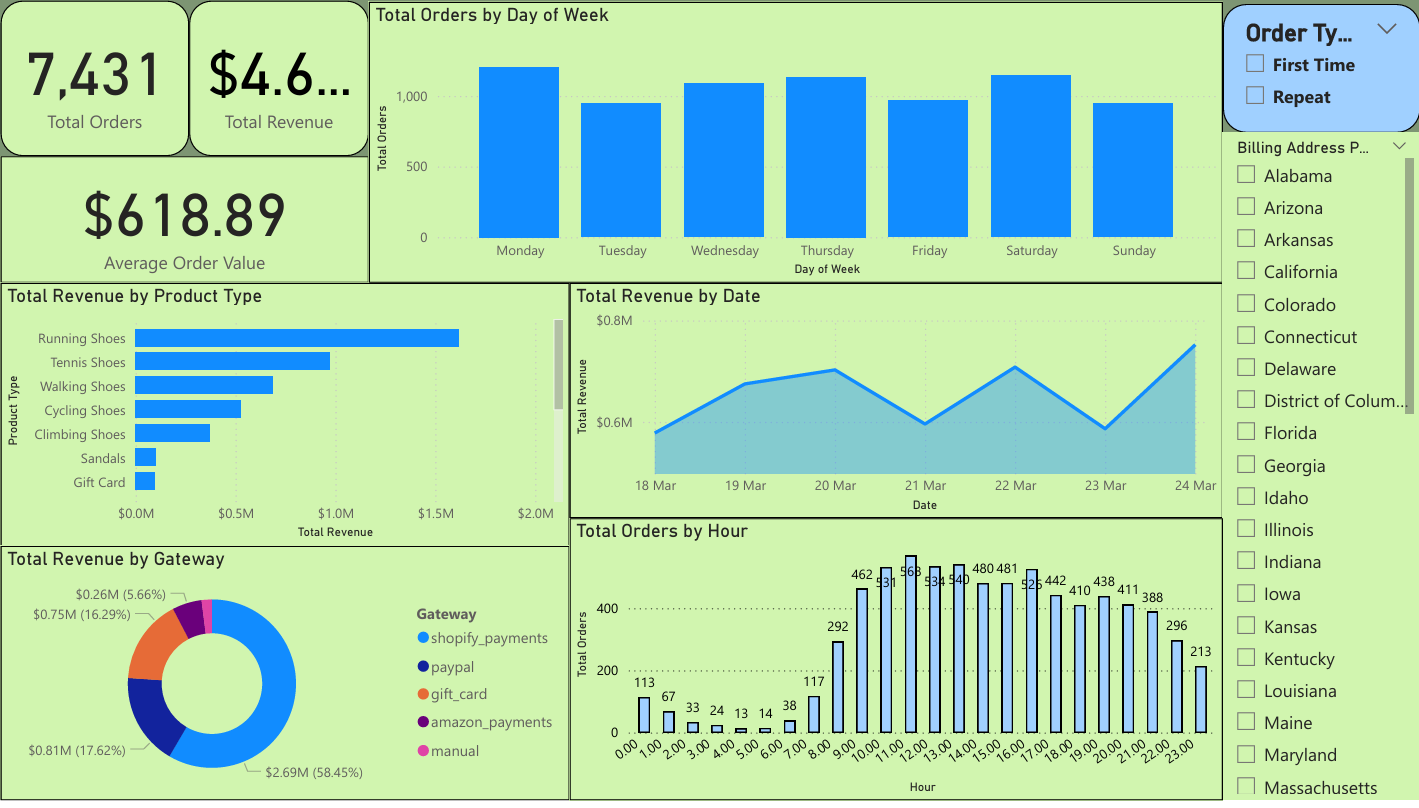

Layout of this report page (visuals, bound fields, positions):
{"tool":"powerbi","page":{"name":"TRANSACTION OVERVIEW","canvas":[1280,720],"ordinal":0},"visuals":[{"type":"card","fields":{"Values":["Measures (2).Total Revenue"]},"box":[170,0,212.9,140],"z":0},{"type":"card","fields":{"Values":["Measures (2).Total Orders"]},"box":[0,0,169.6,140.1],"z":1000},{"type":"card","fields":{"Values":["Measures (2).Average Order Value"]},"box":[0,140,382.9,114.3],"z":2000},{"type":"areaChart","fields":{"Y":["Measures (2).Total Revenue"],"Category":["Dim_Date.Date"]},"box":[513.3,253.7,588.5,212.4],"z":3000},{"type":"clusteredBarChart","fields":{"Y":["Measures (2).Total Revenue"],"Category":["shopify_sales.Product Type"]},"box":[0,253.7,513.3,237.5],"z":4000},{"type":"clusteredColumnChart","fields":{"Y":["Measures (2).Total Orders"],"Category":["Dim_Date.Day of Week"]},"box":[382.9,1.4,718.6,252.9],"z":5000},{"type":"donutChart","fields":{"Category":["shopify_sales.Gateway"],"Y":["Measures (2).Total Revenue"]},"box":[0,491.2,513.3,228.6],"z":6000},{"type":"slicer","fields":{"Values":["shopify_sales.Order Type"]},"box":[1101.8,2.9,178.5,116.5],"z":7000},{"type":"slicer","fields":{"Values":["shopify_sales.Billing Address Province"]},"box":[1101.8,119.5,178.5,600.3],"z":8000},{"type":"clusteredColumnChart","fields":{"Y":["Measures (2).Total Orders"],"Category":["shopify_sales.Hour"]},"box":[513.3,466.1,588.5,253.7],"z":9000}]}

Visuals, with their boxes in screenshot pixels (x1, y1, x2, y2), scaled from the page's 1280x720 canvas onto the 1419x808 screenshot:
card - Measures (2).Total Revenue: crop(188, 0, 424, 157)
card - Measures (2).Total Orders: crop(0, 0, 188, 157)
card - Measures (2).Average Order Value: crop(0, 157, 424, 285)
areaChart - Measures (2).Total Revenue x Dim_Date.Date: crop(569, 285, 1221, 523)
clusteredBarChart - Measures (2).Total Revenue x shopify_sales.Product Type: crop(0, 285, 569, 551)
clusteredColumnChart - Measures (2).Total Orders x Dim_Date.Day of Week: crop(424, 2, 1221, 285)
donutChart - shopify_sales.Gateway x Measures (2).Total Revenue: crop(0, 551, 569, 807)
slicer - shopify_sales.Order Type: crop(1221, 3, 1418, 134)
slicer - shopify_sales.Billing Address Province: crop(1221, 134, 1418, 807)
clusteredColumnChart - Measures (2).Total Orders x shopify_sales.Hour: crop(569, 523, 1221, 807)
